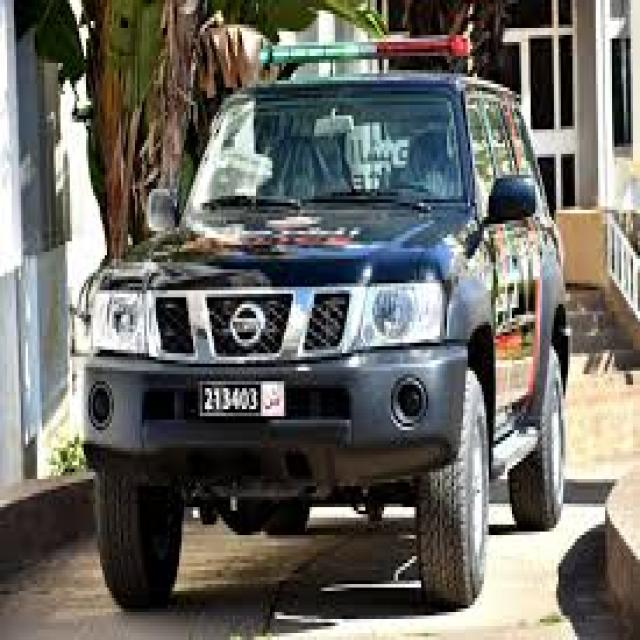police: (71, 37, 566, 607)
